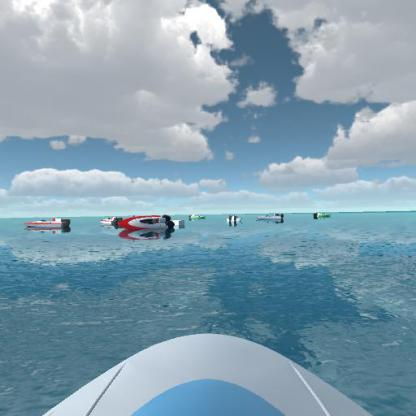usv0: (184, 206, 210, 224), (310, 207, 336, 224)
usv1: (255, 208, 292, 226), (224, 208, 248, 226)
usv3: (118, 208, 180, 235), (24, 212, 76, 235), (98, 211, 124, 230)
